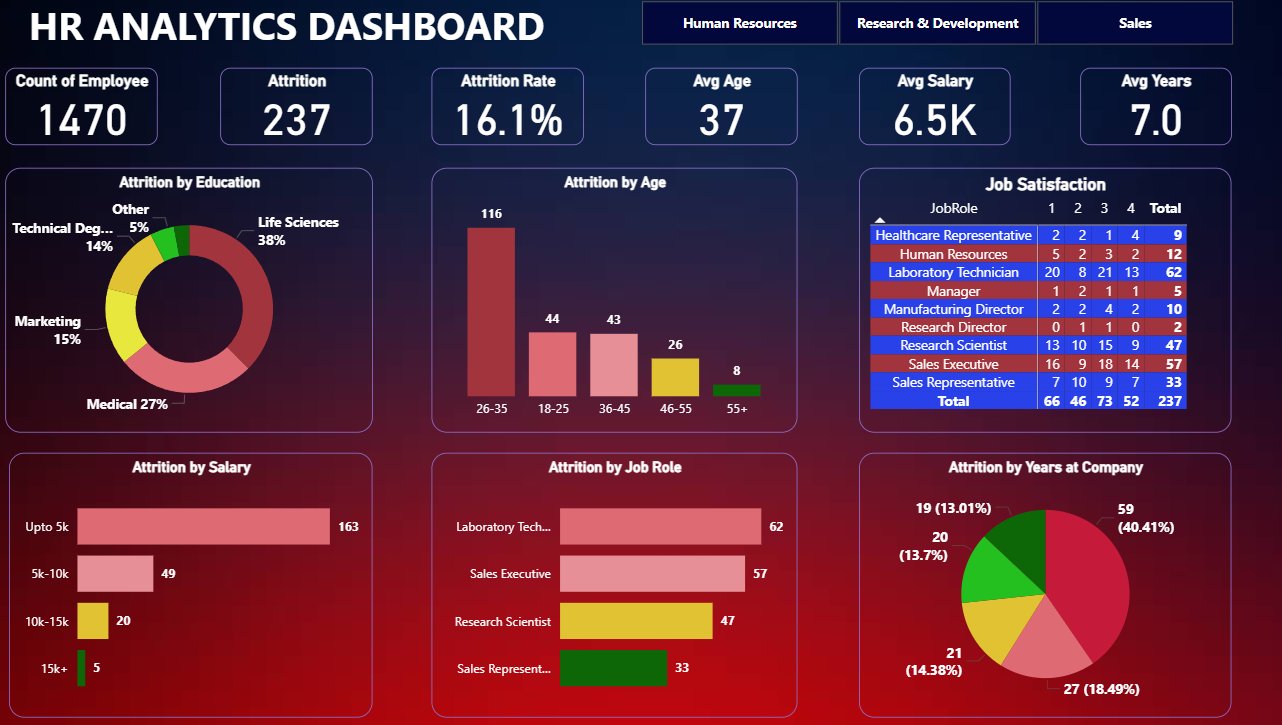

The dashboard page shown, as its layout file describes it:
{"tool":"powerbi","page":{"name":"Page 1","canvas":[1280,720],"ordinal":0},"visuals":[{"type":"card","title":"Count of Employee","fields":{"Values":["CountNonNull(HR_Analytics.EmpID)"]},"box":[11,72.4,149.7,76.1],"z":0},{"type":"card","title":"Attrition","fields":{"Values":["Sum(HR_Analytics.AttritionCount)"]},"box":[222.1,72.4,149.7,76.1],"z":1},{"type":"card","title":"Attrition Rate","fields":{"Values":["HR_Analytics.AttritionRate"]},"box":[429.5,72.4,149.7,76.1],"z":2},{"type":"card","title":"Avg Age","fields":{"Values":["Avg(HR_Analytics.Age)"]},"box":[639.3,72.4,149.7,76.1],"z":3},{"type":"card","title":"Avg Salary","fields":{"Values":["Avg(HR_Analytics.MonthlyIncome)"]},"box":[849.1,72.4,148.5,76.1],"z":4},{"type":"card","title":"Avg Years","fields":{"Values":["Avg(HR_Analytics.YearsAtCompany)"]},"box":[1066.3,72.4,148.5,76.1],"z":5},{"type":"donutChart","title":"Attrition by Education","fields":{"Category":["HR_Analytics.EducationField"],"Y":["Sum(HR_Analytics.AttritionCount)"]},"box":[11,170.6,360.7,260.1],"z":6},{"type":"columnChart","title":"Attrition by Age","fields":{"Category":["HR_Analytics.AgeGroup"],"Y":["Sum(HR_Analytics.AttritionCount)"]},"box":[429.5,170.6,359.5,260.1],"z":7},{"type":"pivotTable","title":"Job Satisfaction","fields":{"Rows":["HR_Analytics.JobRole"],"Columns":["HR_Analytics.JobSatisfaction"],"Values":["Sum(HR_Analytics.AttritionCount)"]},"box":[849.1,170.6,365.6,260.1],"z":8},{"type":"barChart","title":"Attrition by Salary","fields":{"Category":["HR_Analytics.SalarySlab"],"Y":["Sum(HR_Analytics.AttritionCount)"]},"box":[14.7,450.3,357.1,260.1],"z":9},{"type":"barChart","title":"Attrition by Job Role","fields":{"Category":["HR_Analytics.JobRole"],"Y":["Sum(HR_Analytics.AttritionCount)"]},"box":[429.5,450.3,359.5,260.1],"z":10},{"type":"pieChart","title":"Attrition by Years at Company","fields":{"Category":["HR_Analytics.YearsAtCompany"],"Y":["Sum(HR_Analytics.AttritionCount)"]},"box":[849.1,450.3,365.6,260.1],"z":11},{"type":"slicer","fields":{"Values":["HR_Analytics.Department"]},"box":[609.8,0,630.7,56.4],"z":12},{"type":"textbox","box":[29.4,0,563.2,81],"z":13}]}

Visuals, with their boxes in screenshot pixels (x1, y1, x2, y2), scaled from the page's 1280x720 canvas onto the 1282x725 screenshot:
"Count of Employee" card: rect(11, 73, 161, 150)
"Attrition" card: rect(222, 73, 372, 150)
"Attrition Rate" card: rect(430, 73, 580, 150)
"Avg Age" card: rect(640, 73, 790, 150)
"Avg Salary" card: rect(850, 73, 999, 150)
"Avg Years" card: rect(1068, 73, 1217, 150)
"Attrition by Education" donutChart: rect(11, 172, 372, 434)
"Attrition by Age" columnChart: rect(430, 172, 790, 434)
"Job Satisfaction" pivotTable: rect(850, 172, 1217, 434)
"Attrition by Salary" barChart: rect(15, 453, 372, 715)
"Attrition by Job Role" barChart: rect(430, 453, 790, 715)
"Attrition by Years at Company" pieChart: rect(850, 453, 1217, 715)
slicer - HR_Analytics.Department: rect(611, 0, 1242, 57)
textbox: rect(29, 0, 594, 82)
